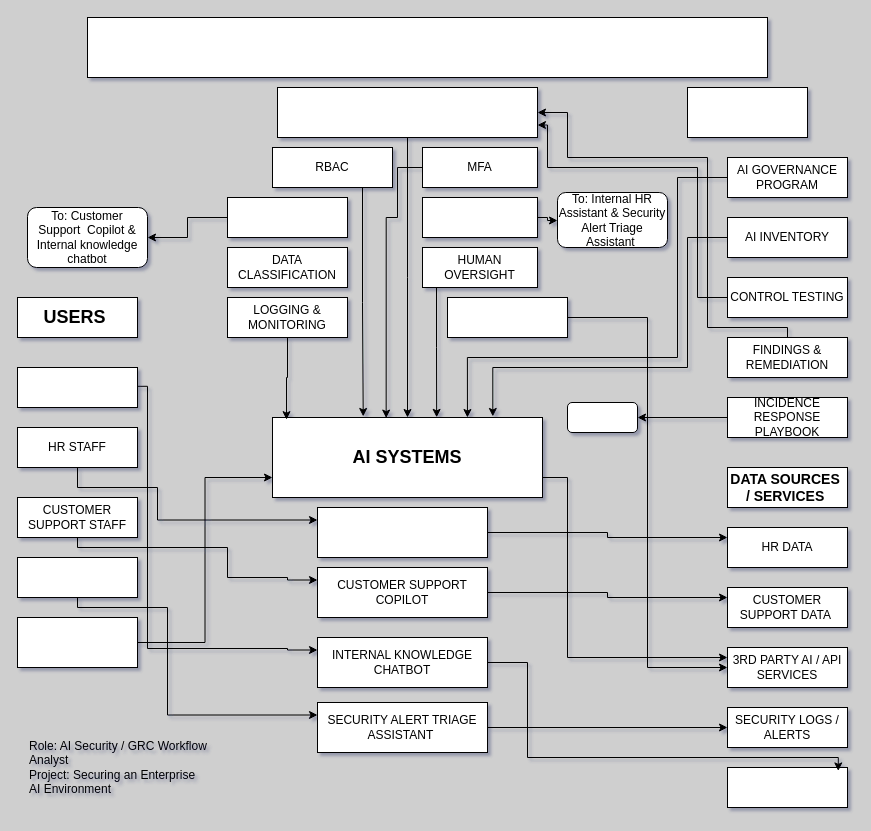
Some shapes in this 871 by 831 pixel diagram are drawn without their labels. The shapes that lost their labels are listed below. From the top down, each one's centre as x and y in pixels, then its label:
(x=427, y=47): NORTHRIVER BUSINESS SYSTEM - AI SECURITY ENVIRONMENT DIAGRAM
(x=407, y=112): SECURITY CONTROLS
(x=747, y=112): AI GOVERNANCE OVERSIGHT
(x=287, y=217): PROMPT FILTERING
(x=480, y=217): OUTPUT VALIDATION
(x=507, y=317): VENDOR SECURITY REVIEW
(x=77, y=387): EMPLOYEES
(x=602, y=417): To: Logging & Monitoring
(x=402, y=532): INTERNAL HR ASSISTANT
(x=77, y=577): SOC ANALYSTS
(x=77, y=642): ADMINISTRATORS
(x=787, y=787): INTERNAL KNOWLEDGE BASE
